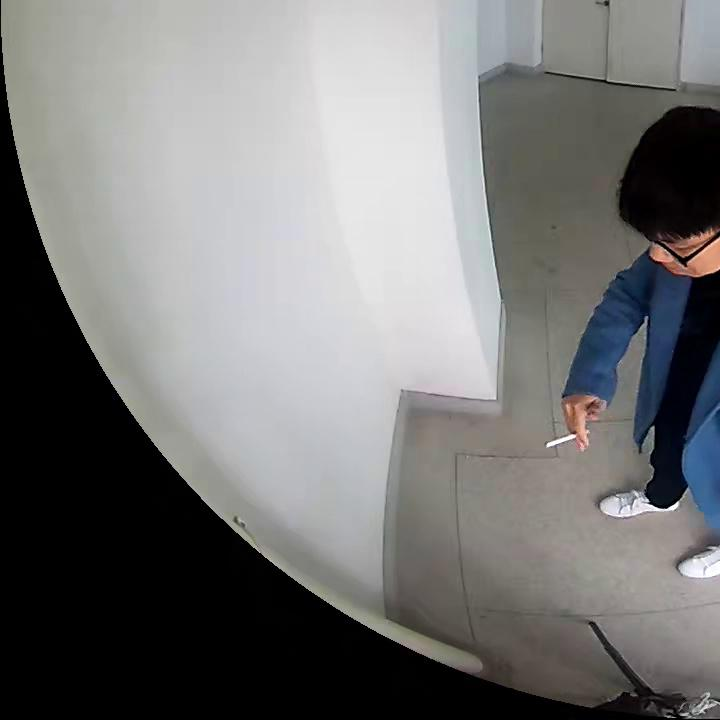handsmoke: (545, 401, 601, 453)
mouthwithoutsmoke: (616, 106, 720, 277)
